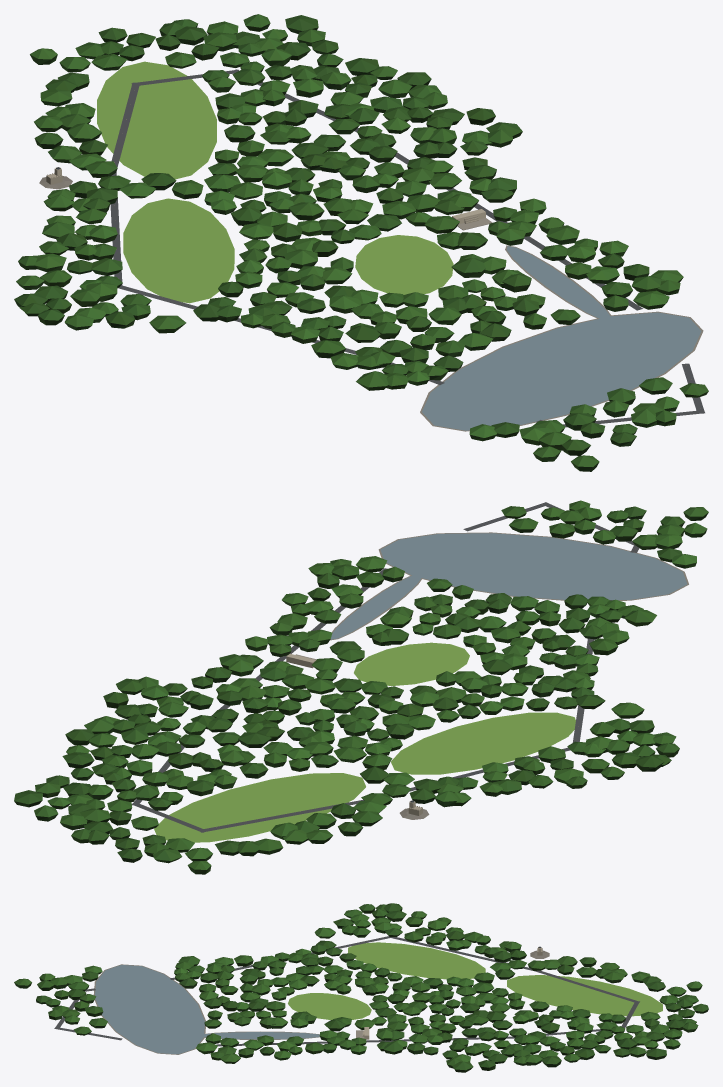
3 renders of one model, top to bottom at view 1: azimuth 30°, elevation 25°; view 2: azimuth 150°, elevation 25°; view 3: azimuth 270°, elevation 25°, orthographic. The views are drawn at different scales.
Parts seen in each view (by area): view 1: prospect-park-lod0; view 2: prospect-park-lod0; view 3: prospect-park-lod0.
Part boxes in pixels (x1,y1,x2,y2): prospect-park-lod0: (14, 14, 708, 471); prospect-park-lod0: (14, 500, 708, 874); prospect-park-lod0: (14, 903, 708, 1072).
Size of the model in its own units: 1507 by 37.68 by 2661.
